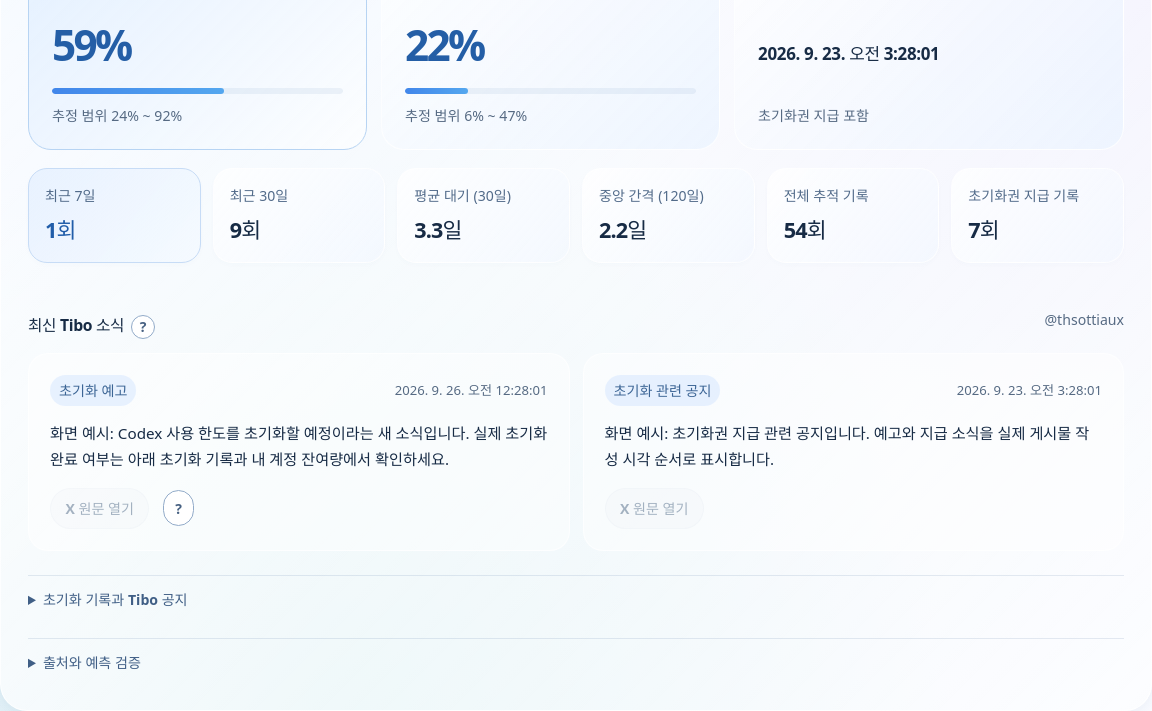
forecast news › shows pending posts, the 30-day pace and separate refresh/reset dates without rendering all historical text
(page scrolled)
Expected: the text "초기화 예고" is shown, [50,375,136,406]
Expected: the text "59%" is shown, [52,16,130,73]
Click the heading "초기화 기록과 Tibo 공지" at (115, 599), box [43,590,188,609]
(page scrolled)
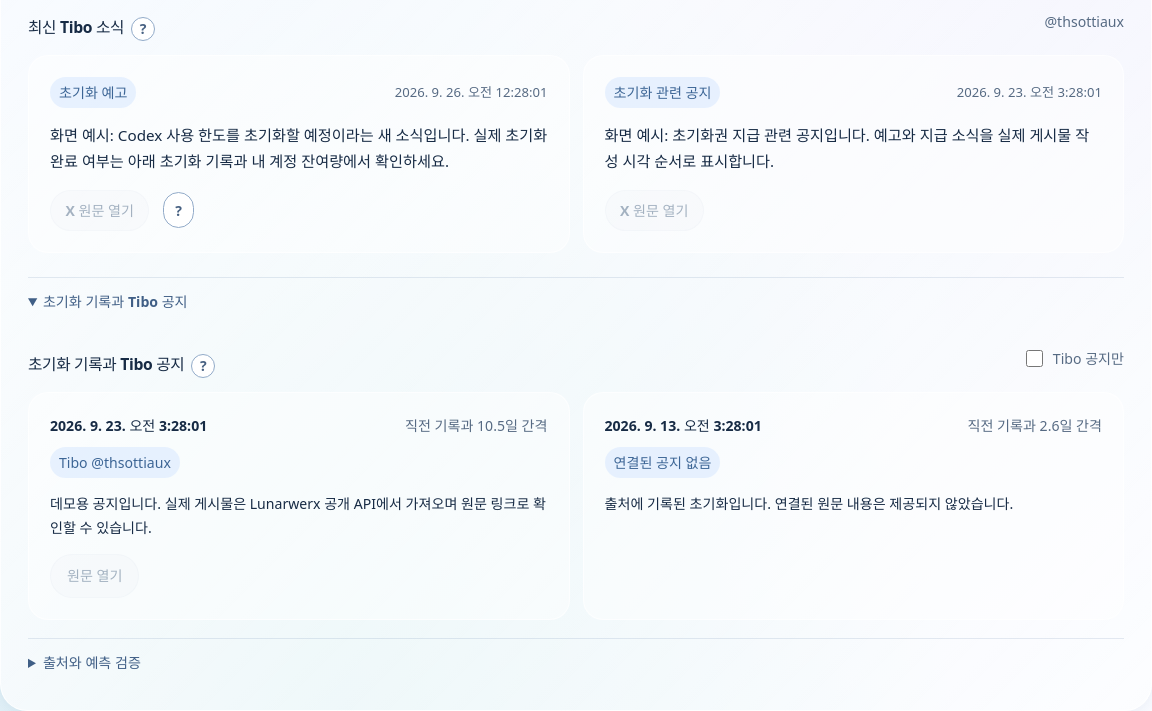
Expected: the text "데모용 공지입니다" is shown, [50,494,546,537]
